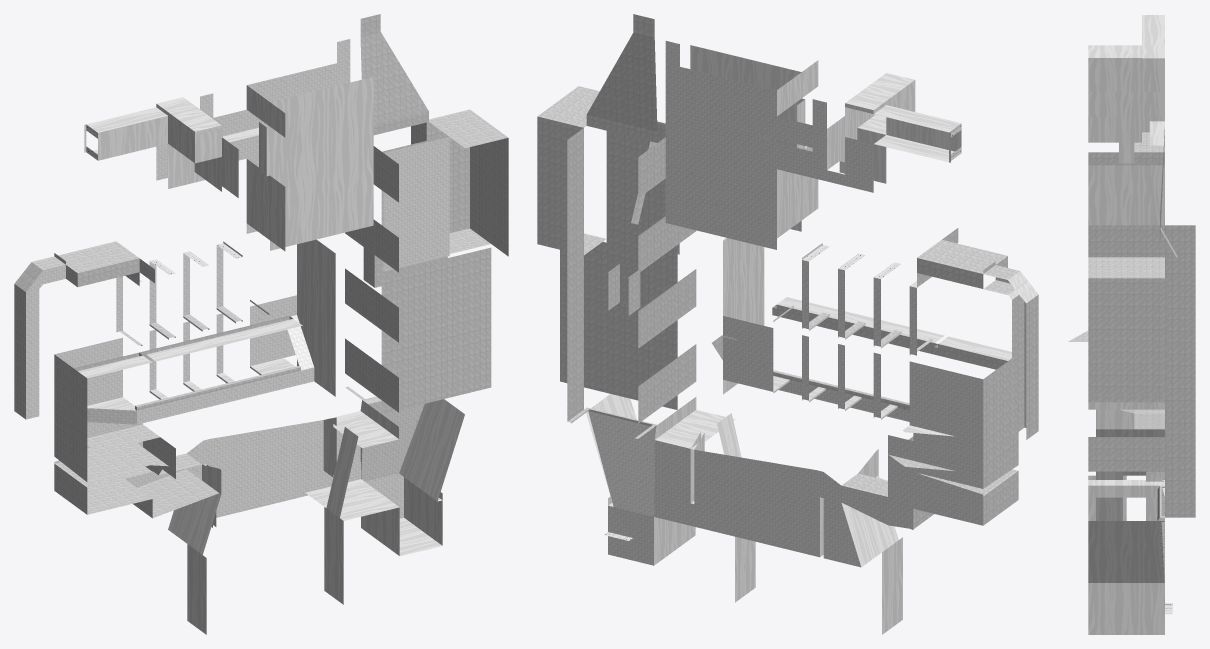
The model's file is truck level LIGHT.fbx.
The picture shows the model from 3 angles, left to right: view 1: azimuth 30°, elevation 25°; view 2: azimuth 150°, elevation 25°; view 3: azimuth 270°, elevation 25°; orthographic projection. The views are drawn at different scales.
Parts seen in each view (by area): view 1: mesh_141; view 2: mesh_141; view 3: mesh_141.
Boxes of the visible parts, box(x1,y1,x2,y2) form: mesh_141: box(14, 14, 508, 634); mesh_141: box(537, 14, 1038, 634); mesh_141: box(1068, 15, 1195, 634).
Size of the model in its own units: 4359 by 4976 by 1072.
